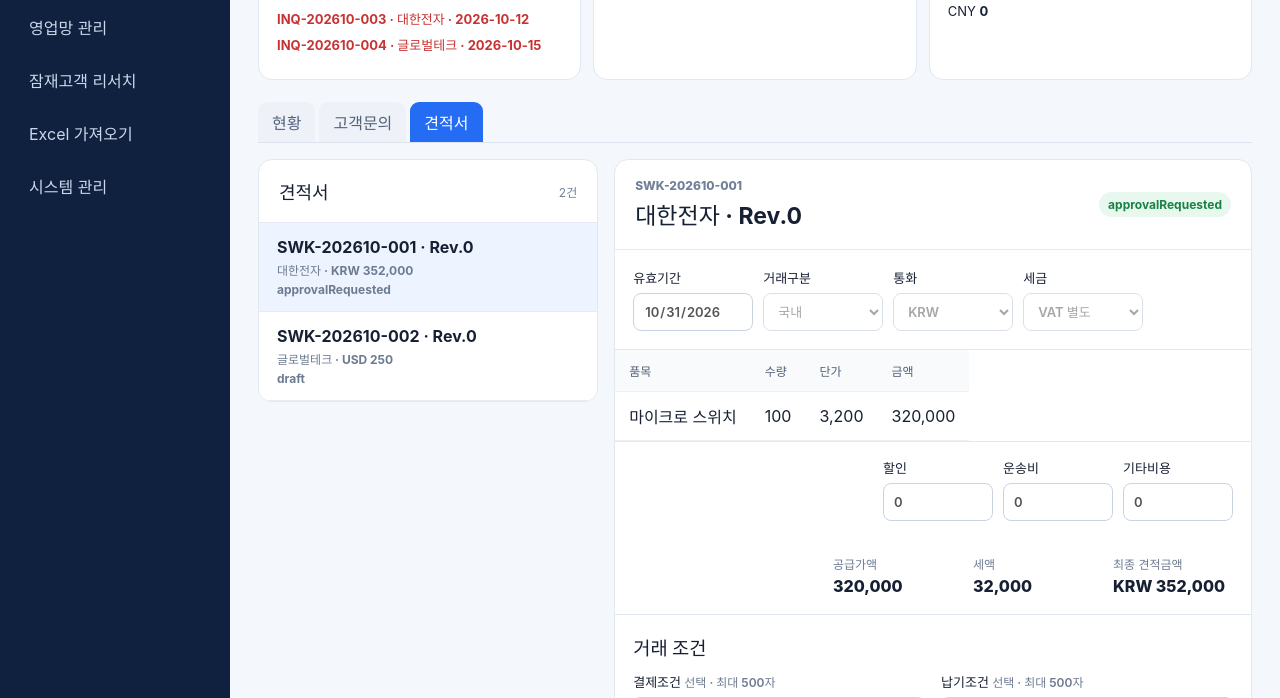
quotation and inquiry workspace › adds and removes draft lines, recalculates totals, and saves the edited list
(page scrolled)
Click the button "SWK-202610-002 · Rev.0 글로벌테크 · USD 250 draft" at (348, 336), box top-left (259, 312), bottom-right (597, 401)
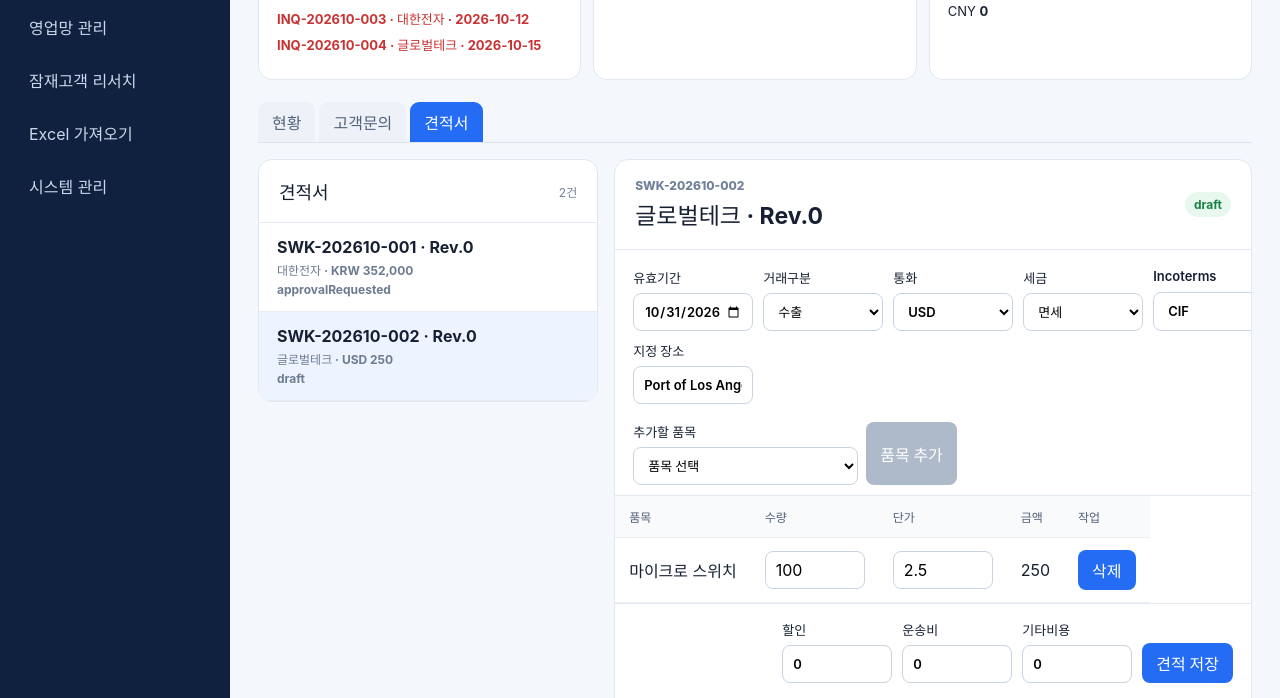
Select "SW-100 · 마이크로 스위치 · 제품" in the dropdown labelled "추가할 품목" at (746, 466), box top-left (633, 447), bottom-right (858, 485)
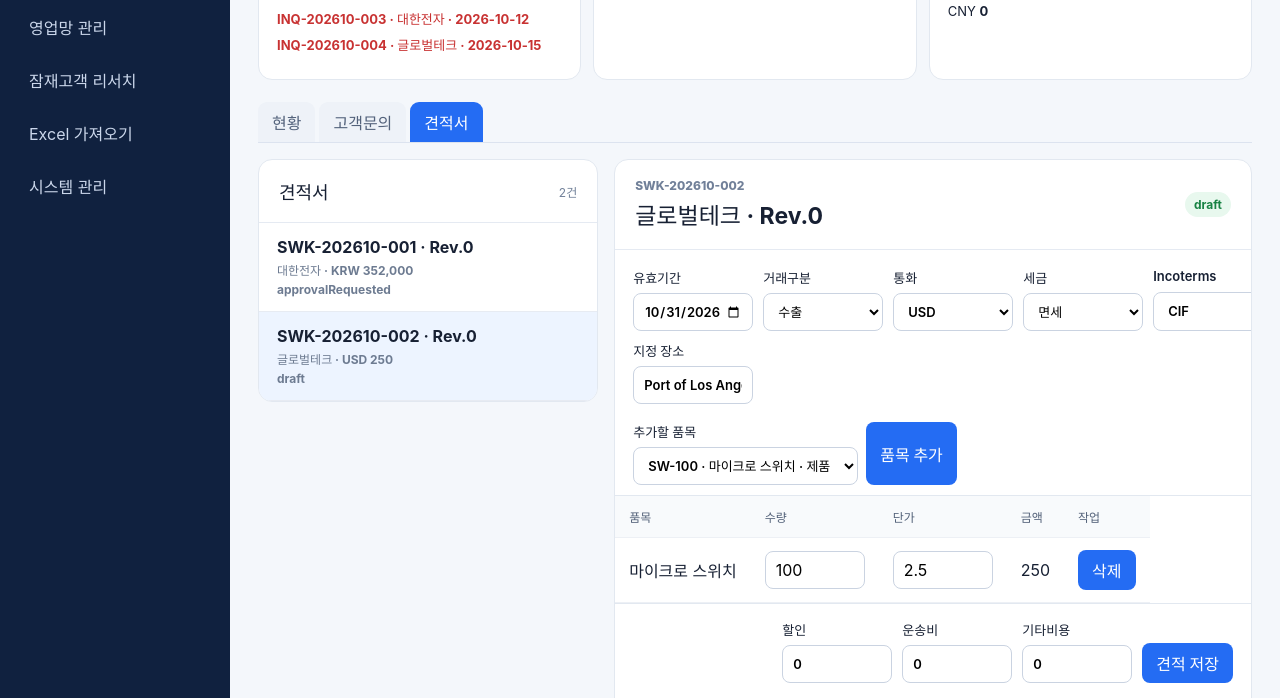
Click the button "품목 추가" at (912, 454), box top-left (866, 422), bottom-right (957, 485)
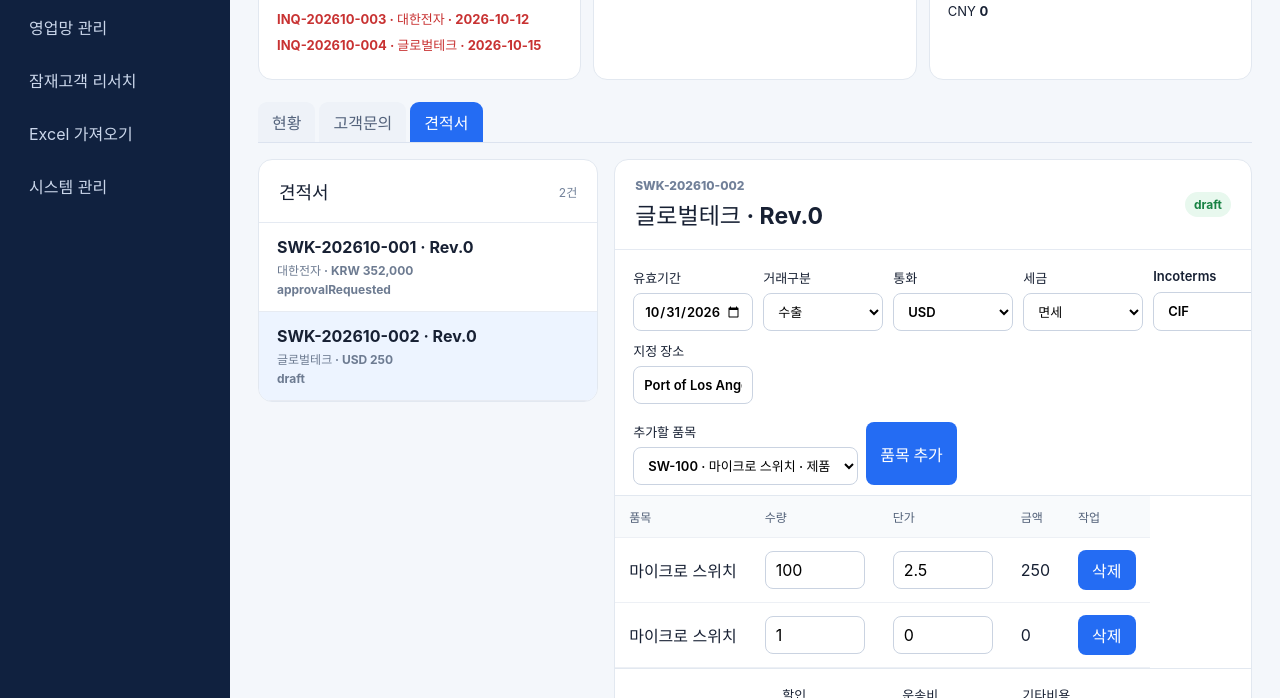
Replace the text in the 2nd number field named "마이크로 스위치 단가" with "50" at (943, 635), box top-left (893, 616), bottom-right (993, 654)
Click the button with aria-label "품목 삭제" at (1107, 570), box top-left (1078, 550), bottom-right (1136, 590)
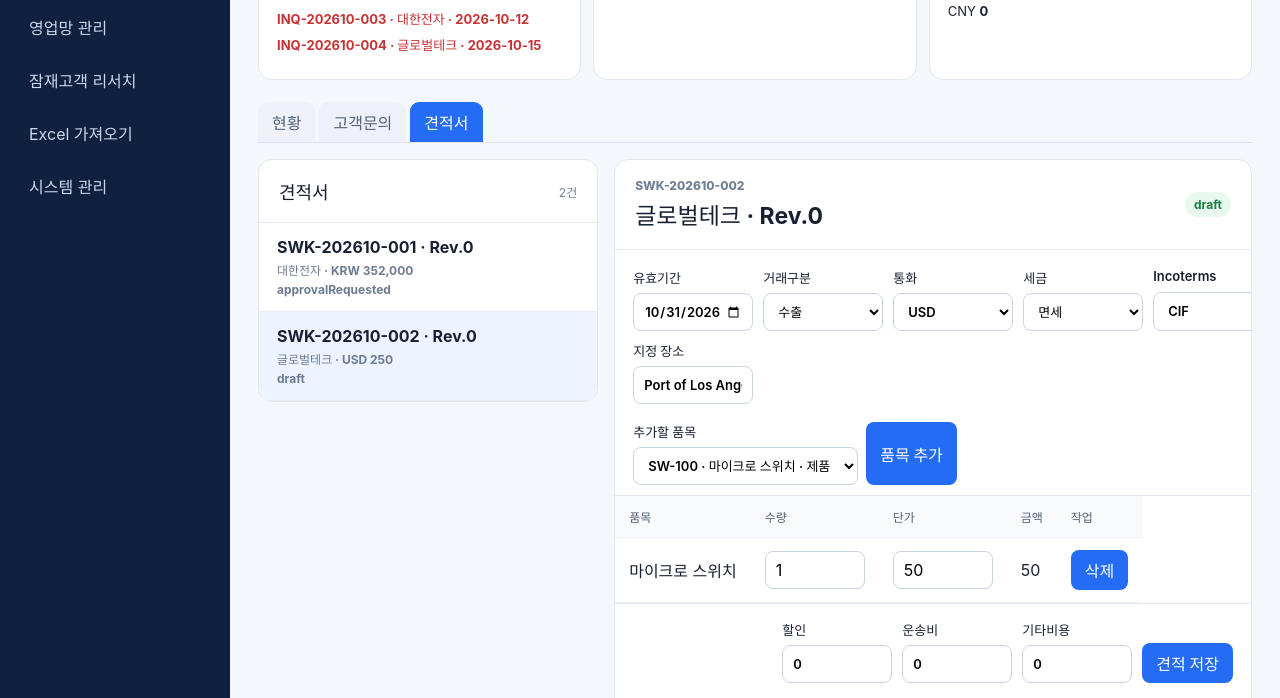
Click the button "견적 저장" at (1188, 663), box top-left (1142, 643), bottom-right (1233, 683)
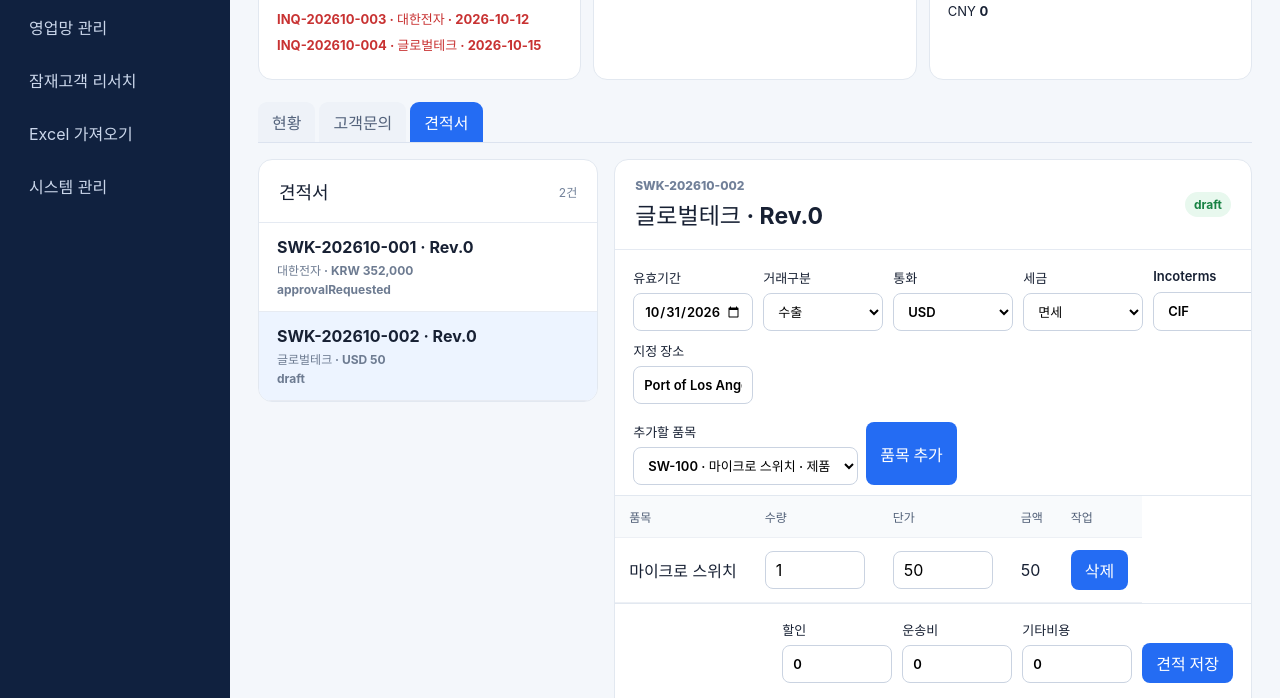
Result: the button "SWK-202610-002 · Rev.0 글로벌테크 · USD 50 draft" is shown at top-left (259, 312), bottom-right (597, 401)
Click the button with aria-label "품목 삭제" at (1100, 570), box top-left (1071, 550), bottom-right (1128, 590)
(page scrolled)
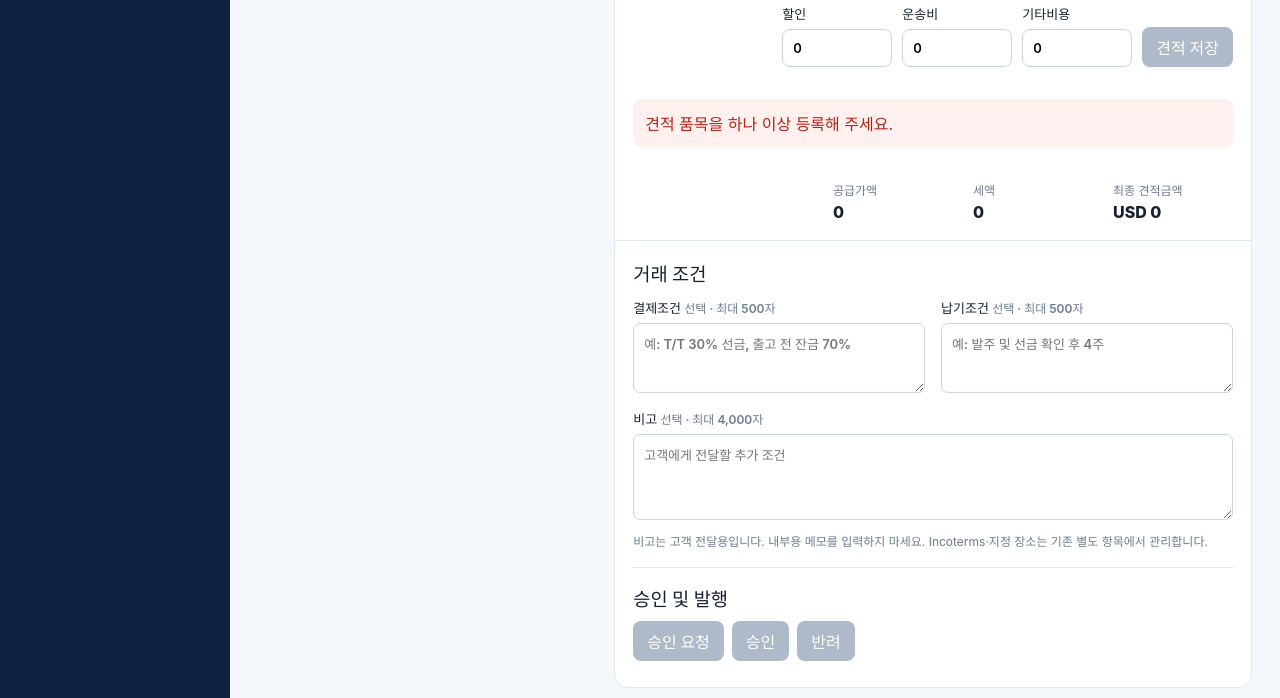
Result: the button "견적 저장" is disabled at top-left (1142, 27), bottom-right (1233, 67)
Result: the button "승인 요청" is disabled at top-left (633, 621), bottom-right (724, 661)
